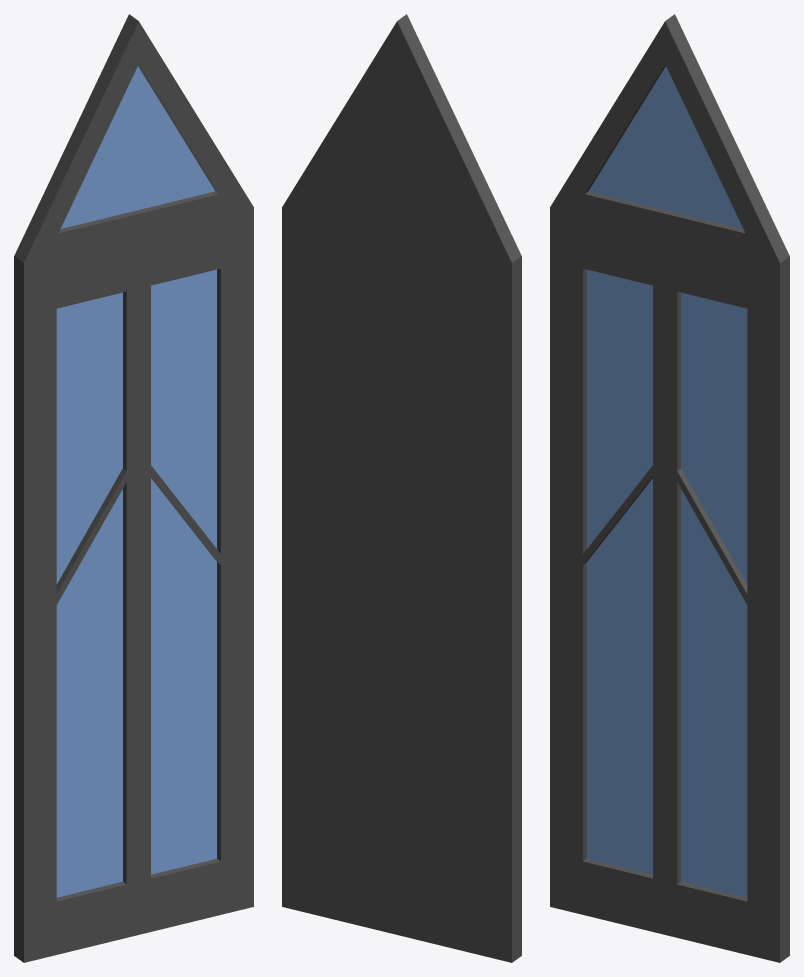
Rendered from Kirchenfenster.fbx.
3 views of the same model, side by side, from view 1: azimuth 30°, elevation 25°; view 2: azimuth 150°, elevation 25°; view 3: azimuth 330°, elevation 25° (orthographic).
Parts seen in each view (by area): view 1: Fenster.017; view 2: Fenster.017; view 3: Fenster.017.
Part boxes in pixels (x1,y1,x2,y2): Fenster.017: [14, 14, 253, 962]; Fenster.017: [282, 14, 521, 962]; Fenster.017: [550, 14, 789, 962].
Size of the model in its own units: 1390 by 5279 by 103.
